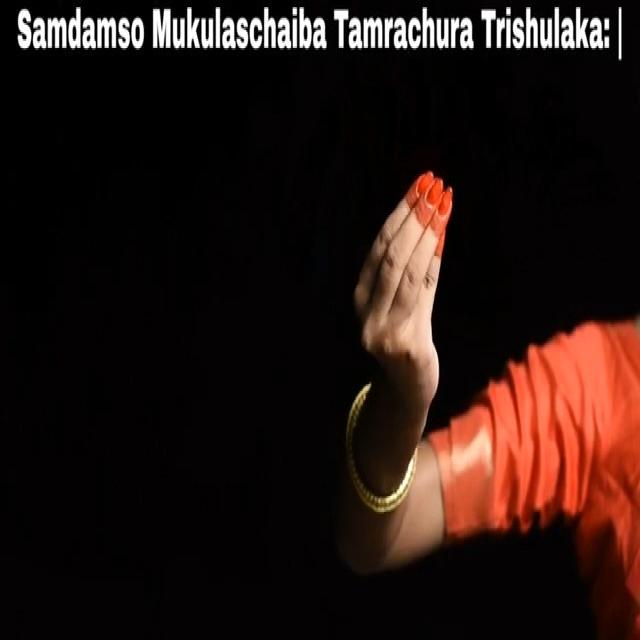Mukula: (347, 156, 474, 418)
bangle: (335, 402, 424, 532)
text: (1, 0, 630, 74)
